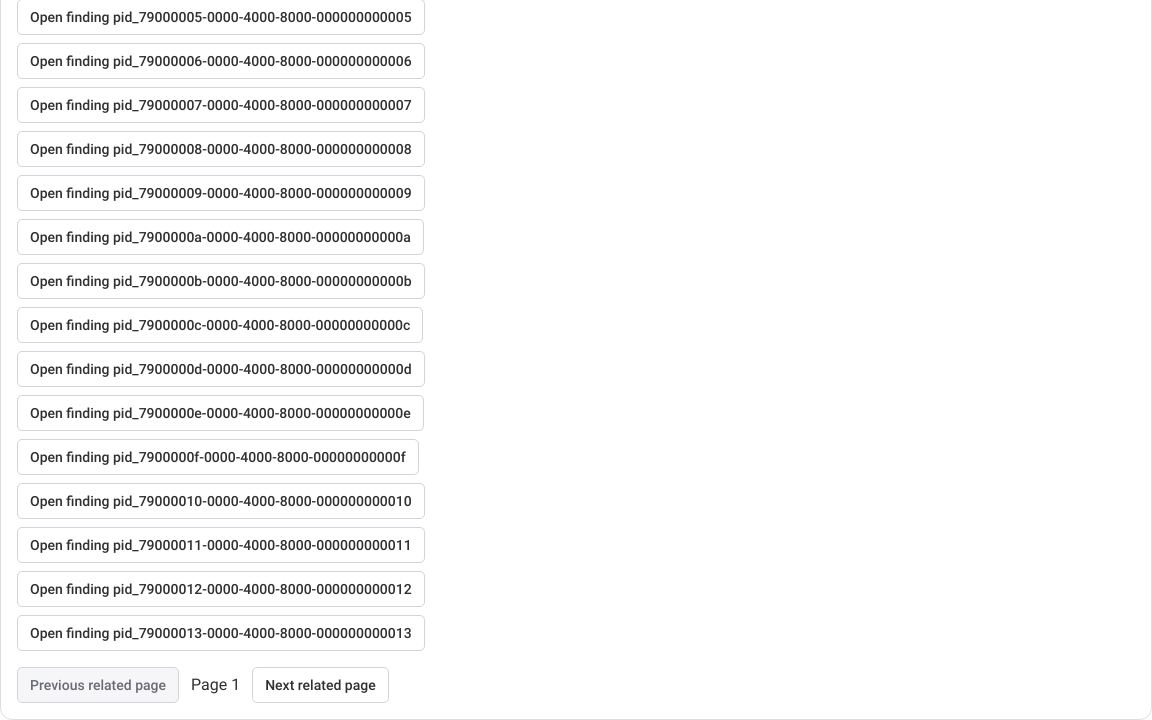
Test: Security Agent activity panel › refuses a cursor cycle instead of allowing repeated pages
(page scrolled)
Click the button "Next related page" at (320, 685), box [252,667,389,703]
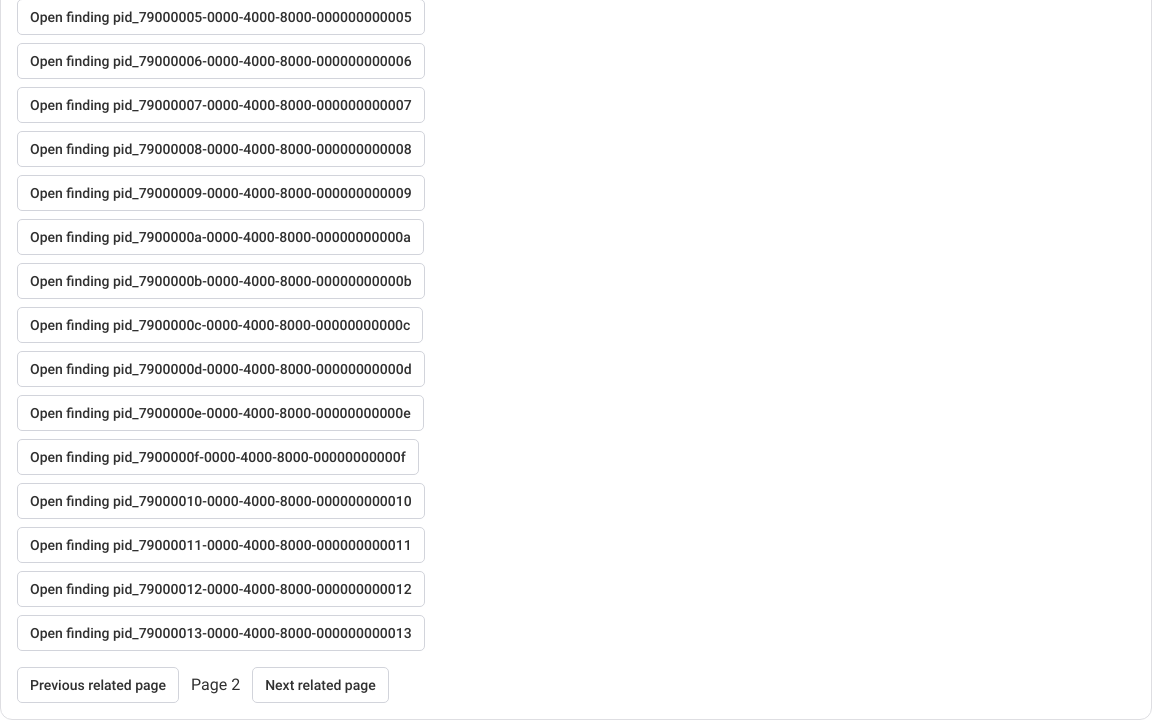
Click the button "Next related page" at (320, 685), box [252,667,389,703]
(page scrolled)
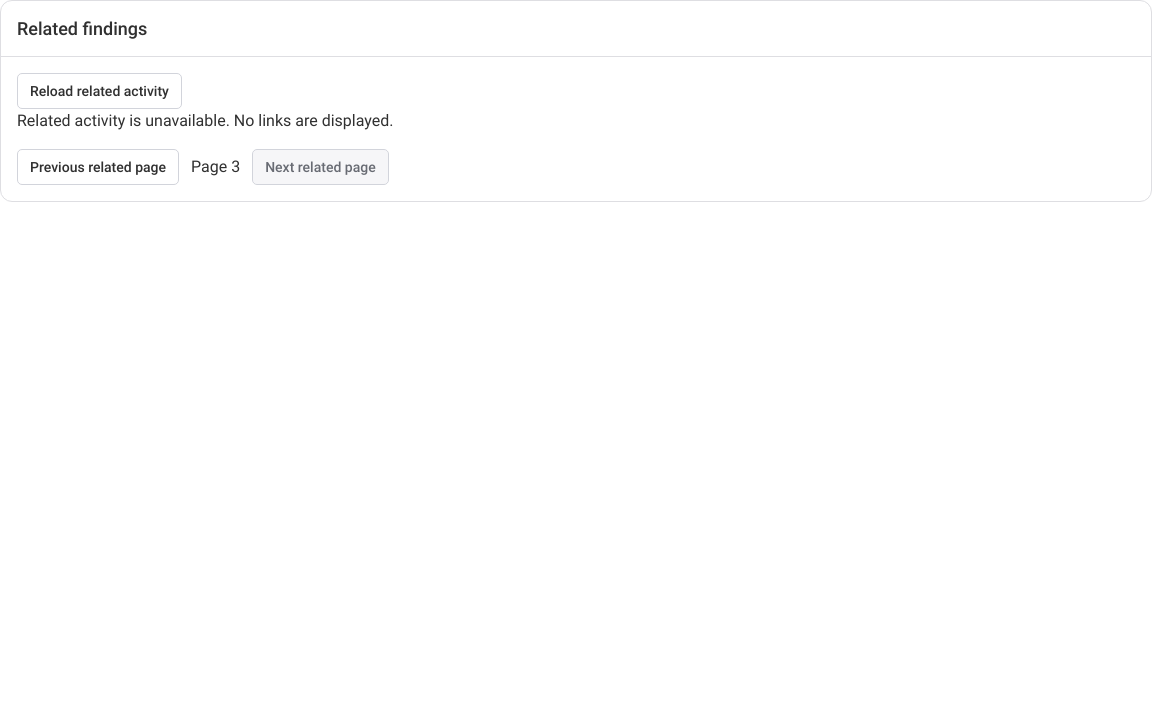
Expected: the message shows "unavailable", [17,111,393,130]
Expected: the button "Next related page" is disabled, [252,149,389,185]
